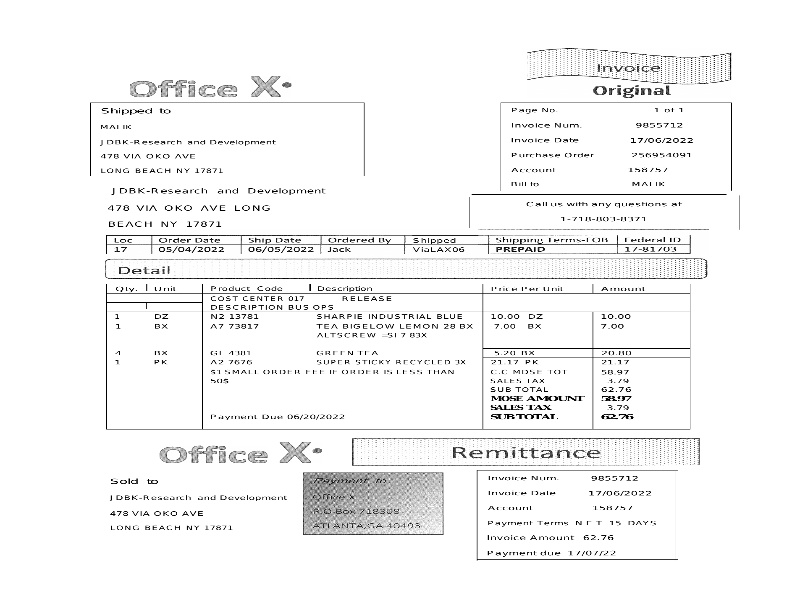Bordered: (107, 282, 689, 428)
